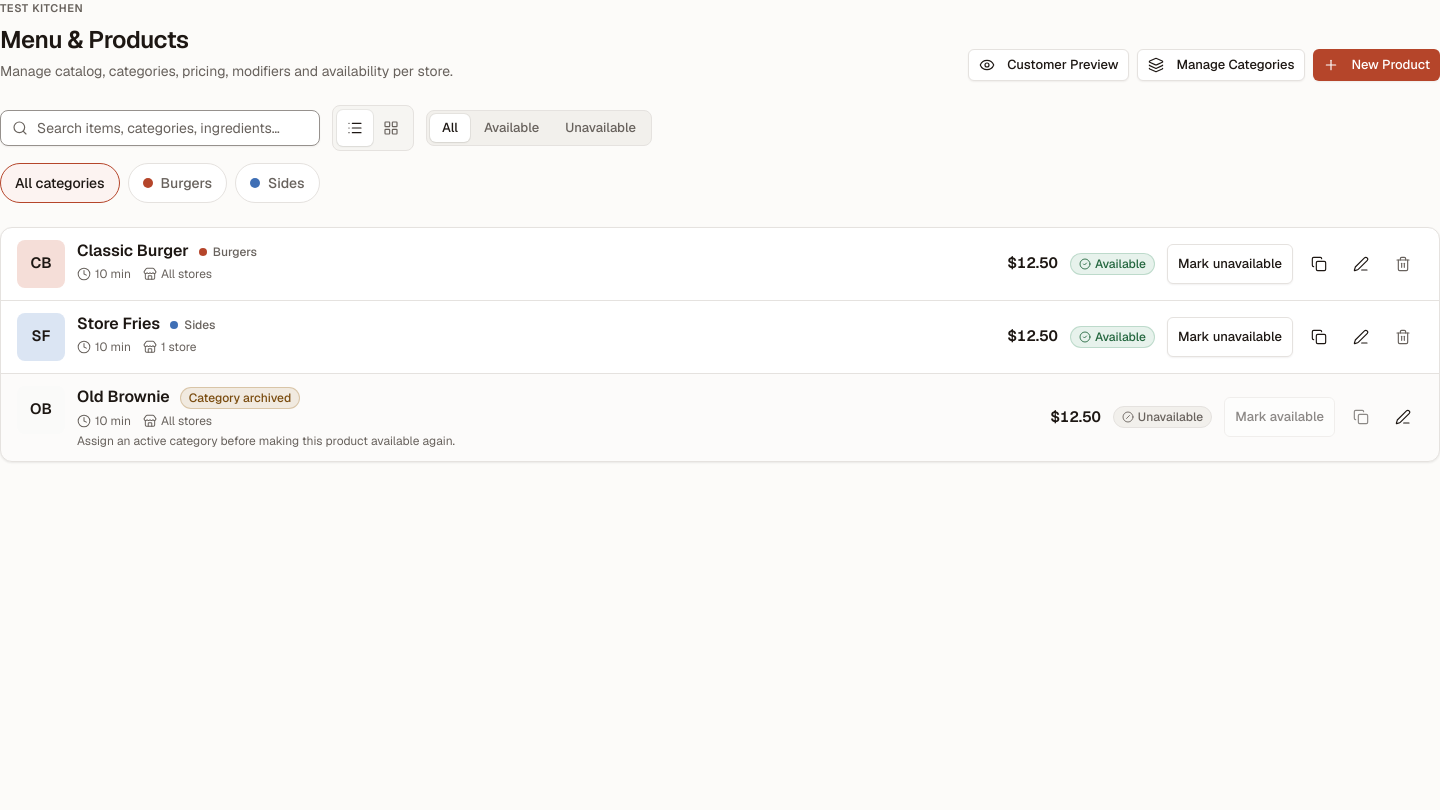
Test: owner: category lifecycle › requires a category name
The image size is (1440, 810).
Expected: the heading "Classic Burger" is shown, [77, 240, 189, 262]
Click the button "Manage Categories" at (1221, 64), box [1138, 48, 1305, 80]
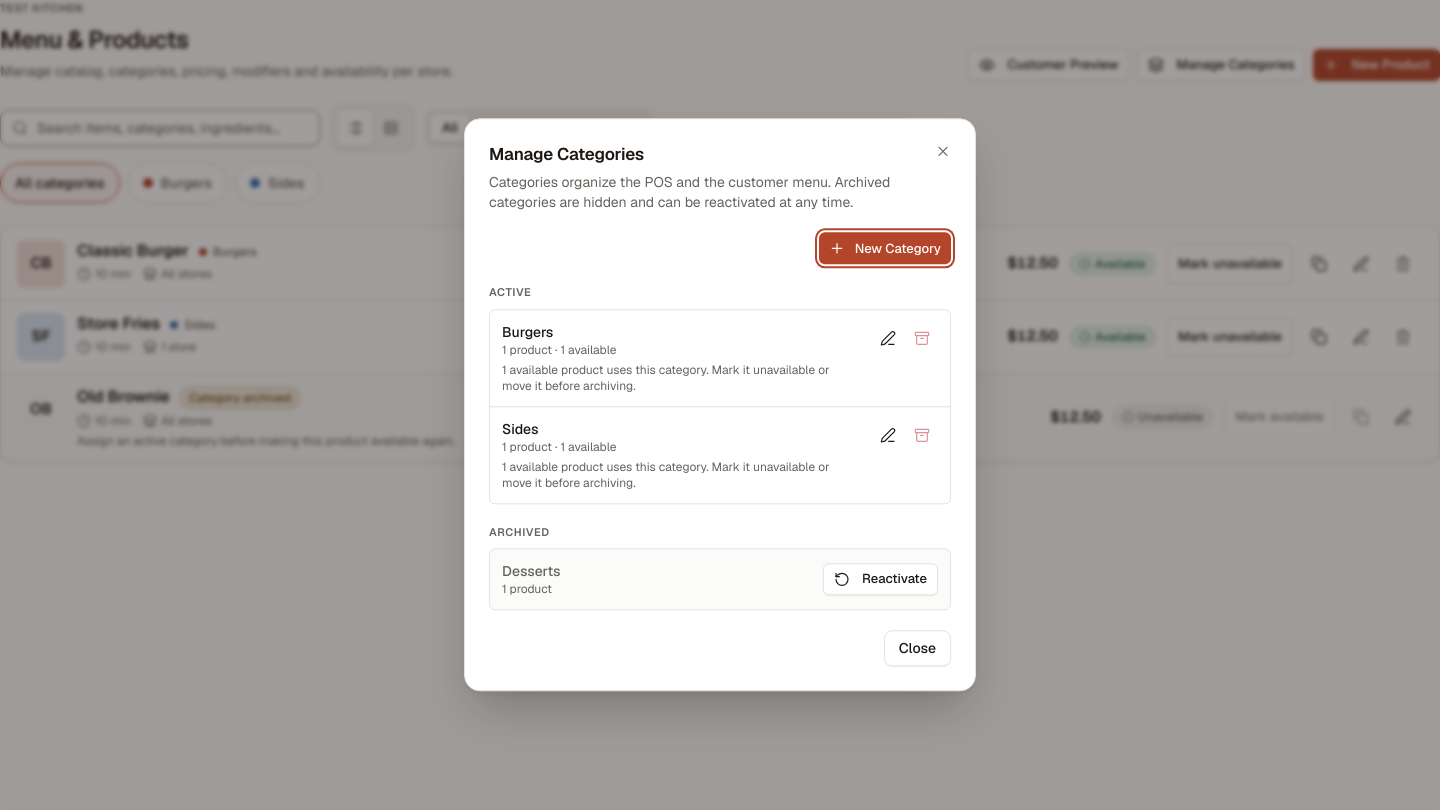
Click the button "New Category" at (885, 249), box [819, 233, 951, 265]
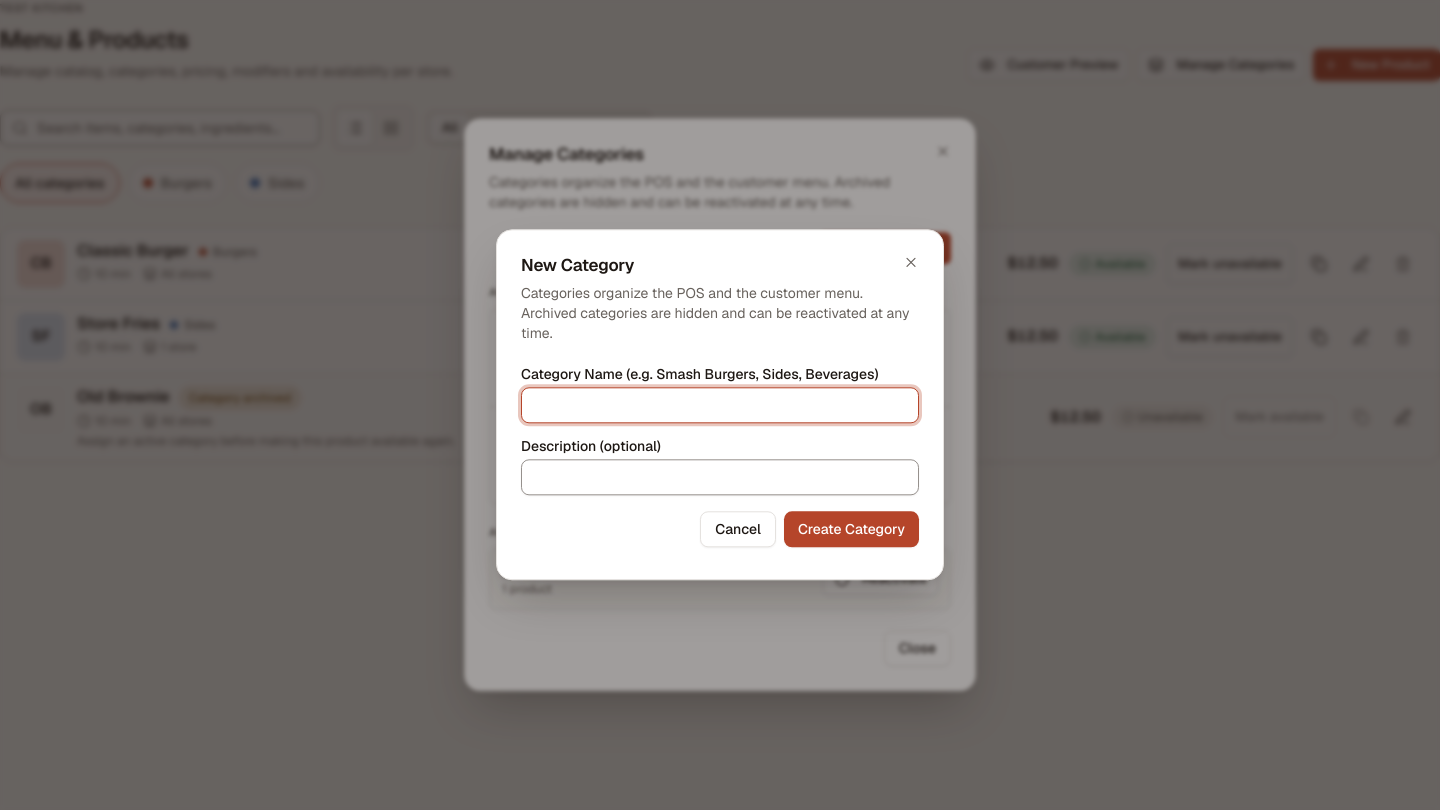
Click the button "Create Category" at (851, 530), box [784, 512, 919, 548]
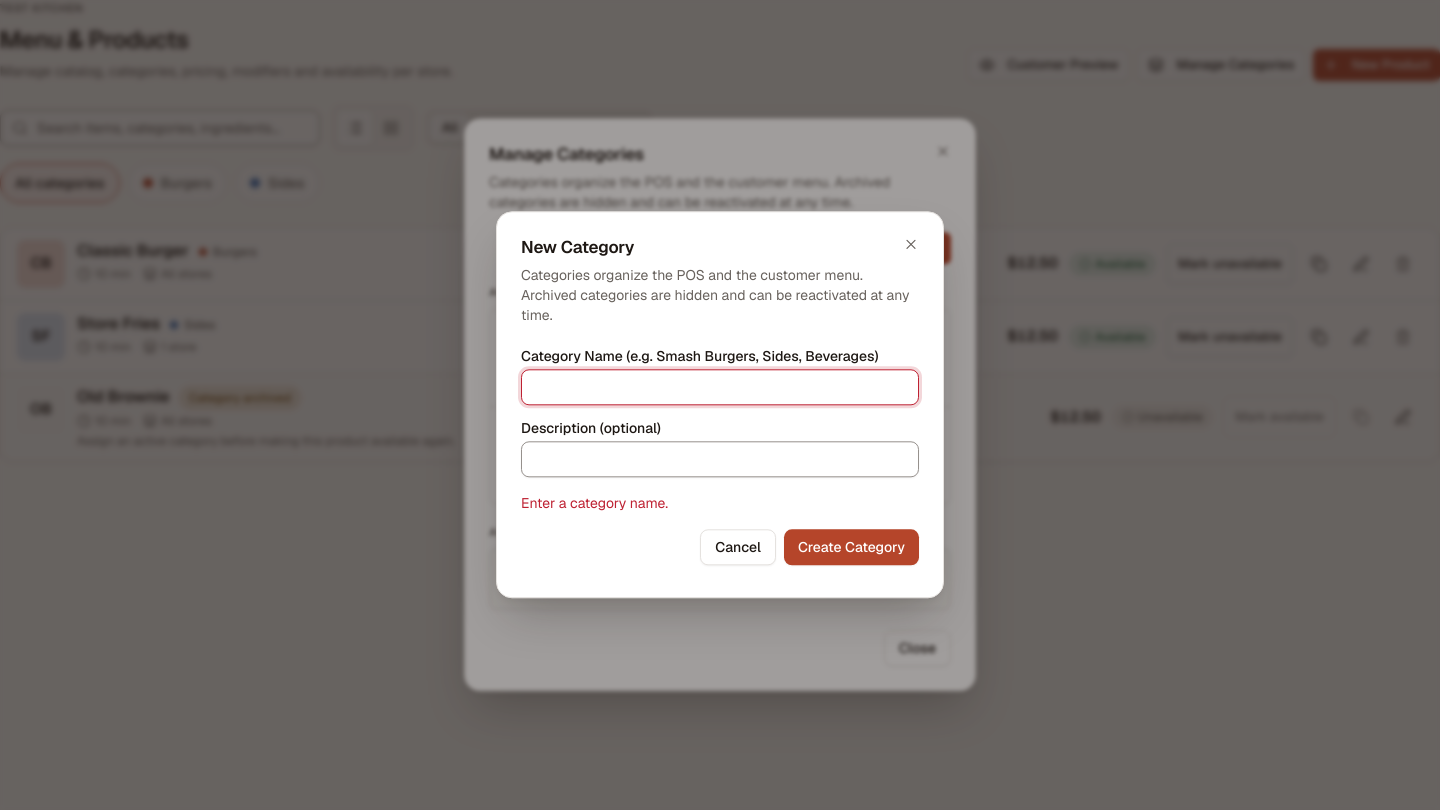
Expected: the message reads "Enter a category name.", [521, 495, 668, 513]
